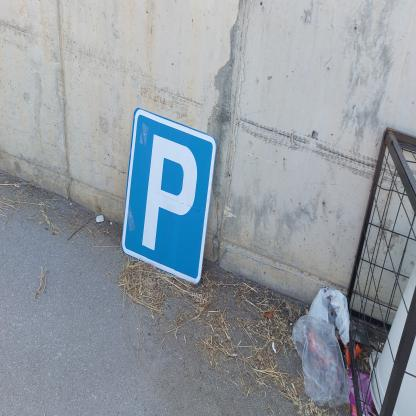Parking-Sign: (122, 109, 218, 285)
